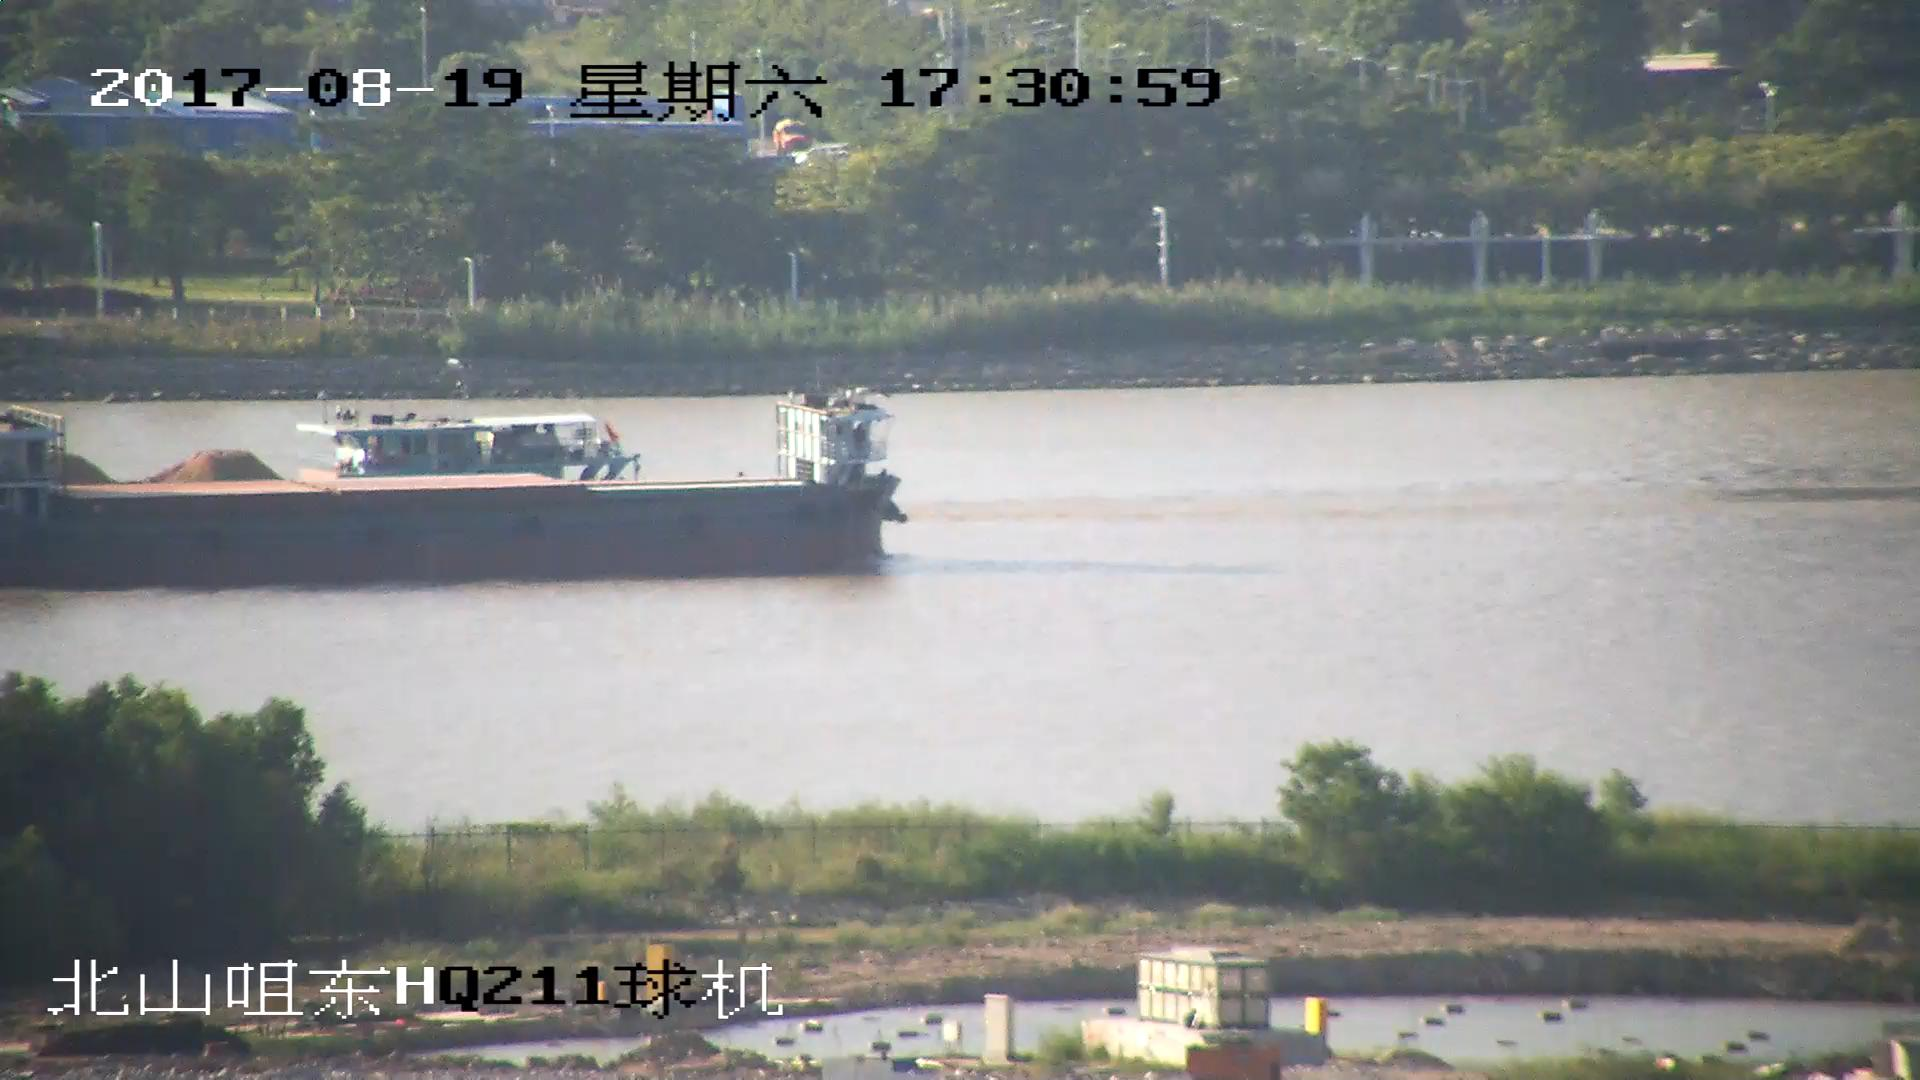general cargo ship: (1, 382, 908, 591)
ore carrier: (1, 411, 640, 480)
